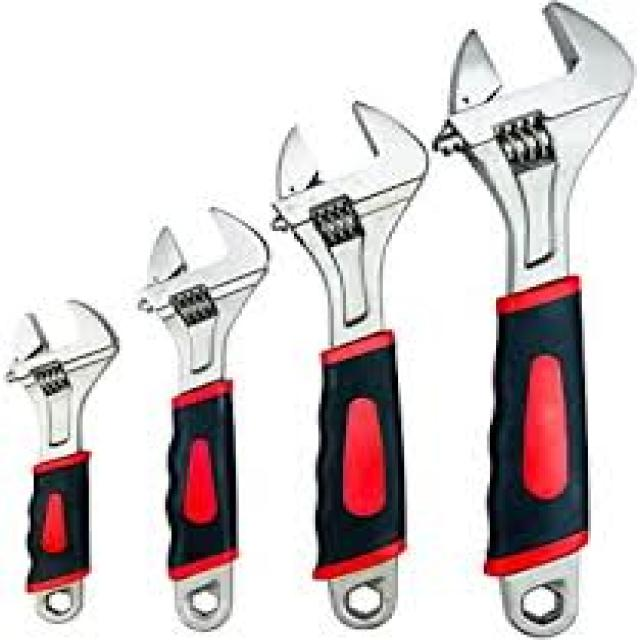wrench: (428, 0, 640, 640), (264, 82, 430, 634), (132, 199, 276, 640), (0, 290, 126, 633)
